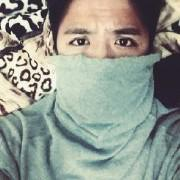OK: (53, 20, 150, 117)
